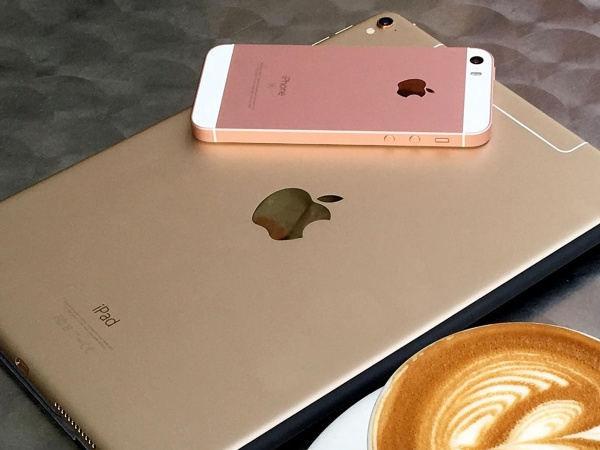apple: (248, 166, 353, 251), (389, 77, 442, 103)
